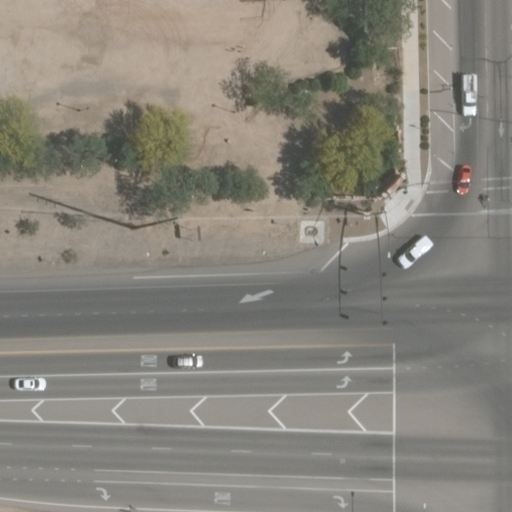DT: (122, 207, 185, 238)
